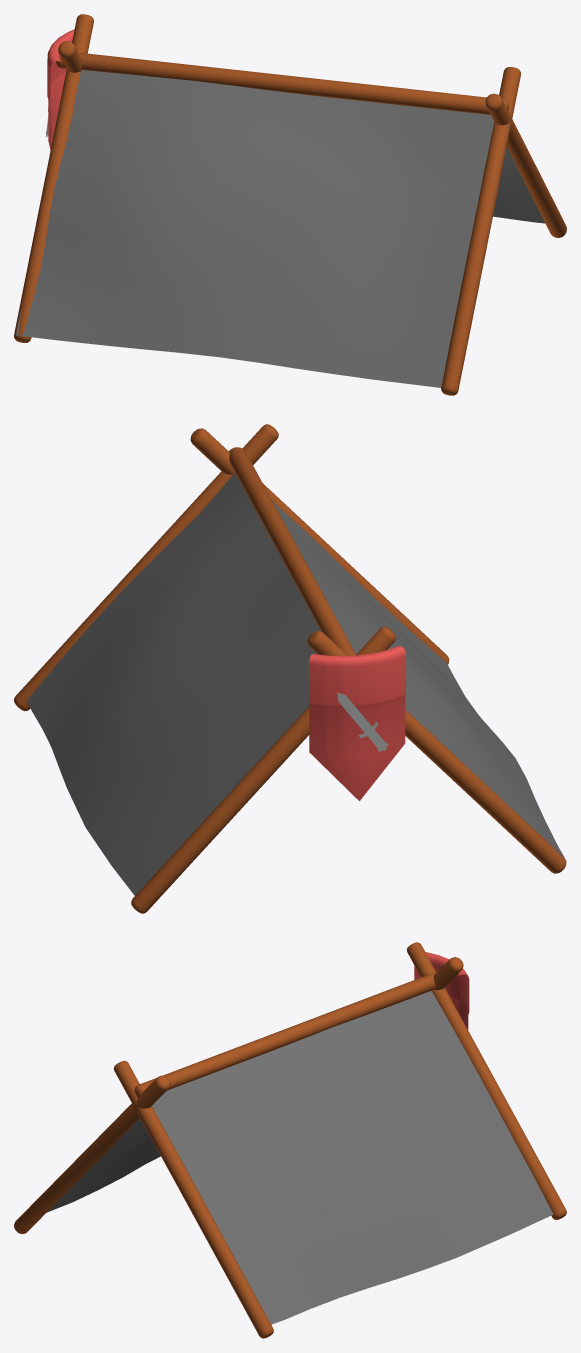
File: sword tent 1.fbx
3 views of the same model, one above another, from view 1: azimuth 30°, elevation 25°; view 2: azimuth 150°, elevation 25°; view 3: azimuth 270°, elevation 25° (orthographic). The views are drawn at different scales.
Parts seen in each view (by area): view 1: Plane.005, Plane.008; view 2: Plane.005, Plane.008; view 3: Plane.005, Plane.008.
Boxes of the visible parts, x1,y1,x2,y2 form: Plane.005: (14, 14, 566, 395); Plane.008: (46, 29, 74, 149); Plane.005: (14, 424, 566, 913); Plane.008: (309, 646, 405, 800); Plane.005: (14, 942, 566, 1338); Plane.008: (414, 952, 469, 1029).
Bounding box in the file's own units: 4932 × 2151 × 4944.
